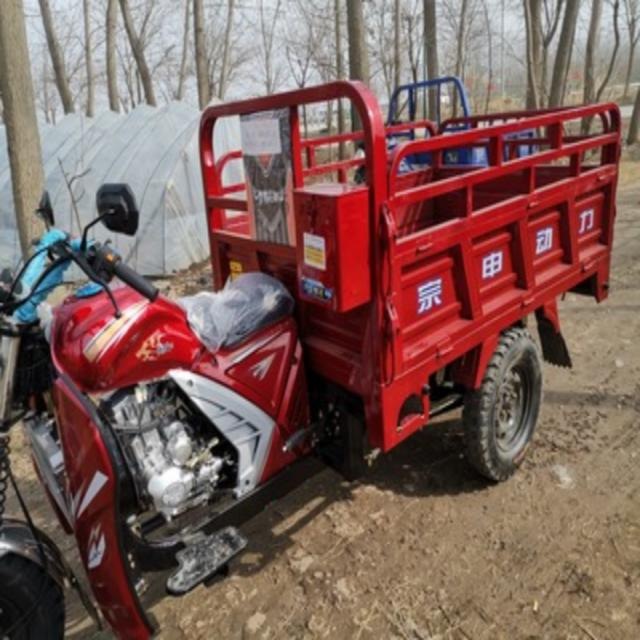tricycle: (0, 77, 621, 638), (352, 73, 538, 164)
